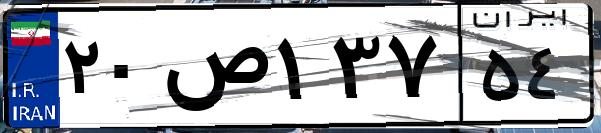0: (110, 28, 158, 98)
1: (270, 28, 330, 110)
2: (57, 26, 110, 100)
3: (330, 28, 385, 110)
4: (525, 38, 570, 115)
5: (475, 38, 525, 113)
7: (385, 28, 445, 110)
ص: (158, 20, 270, 120)
